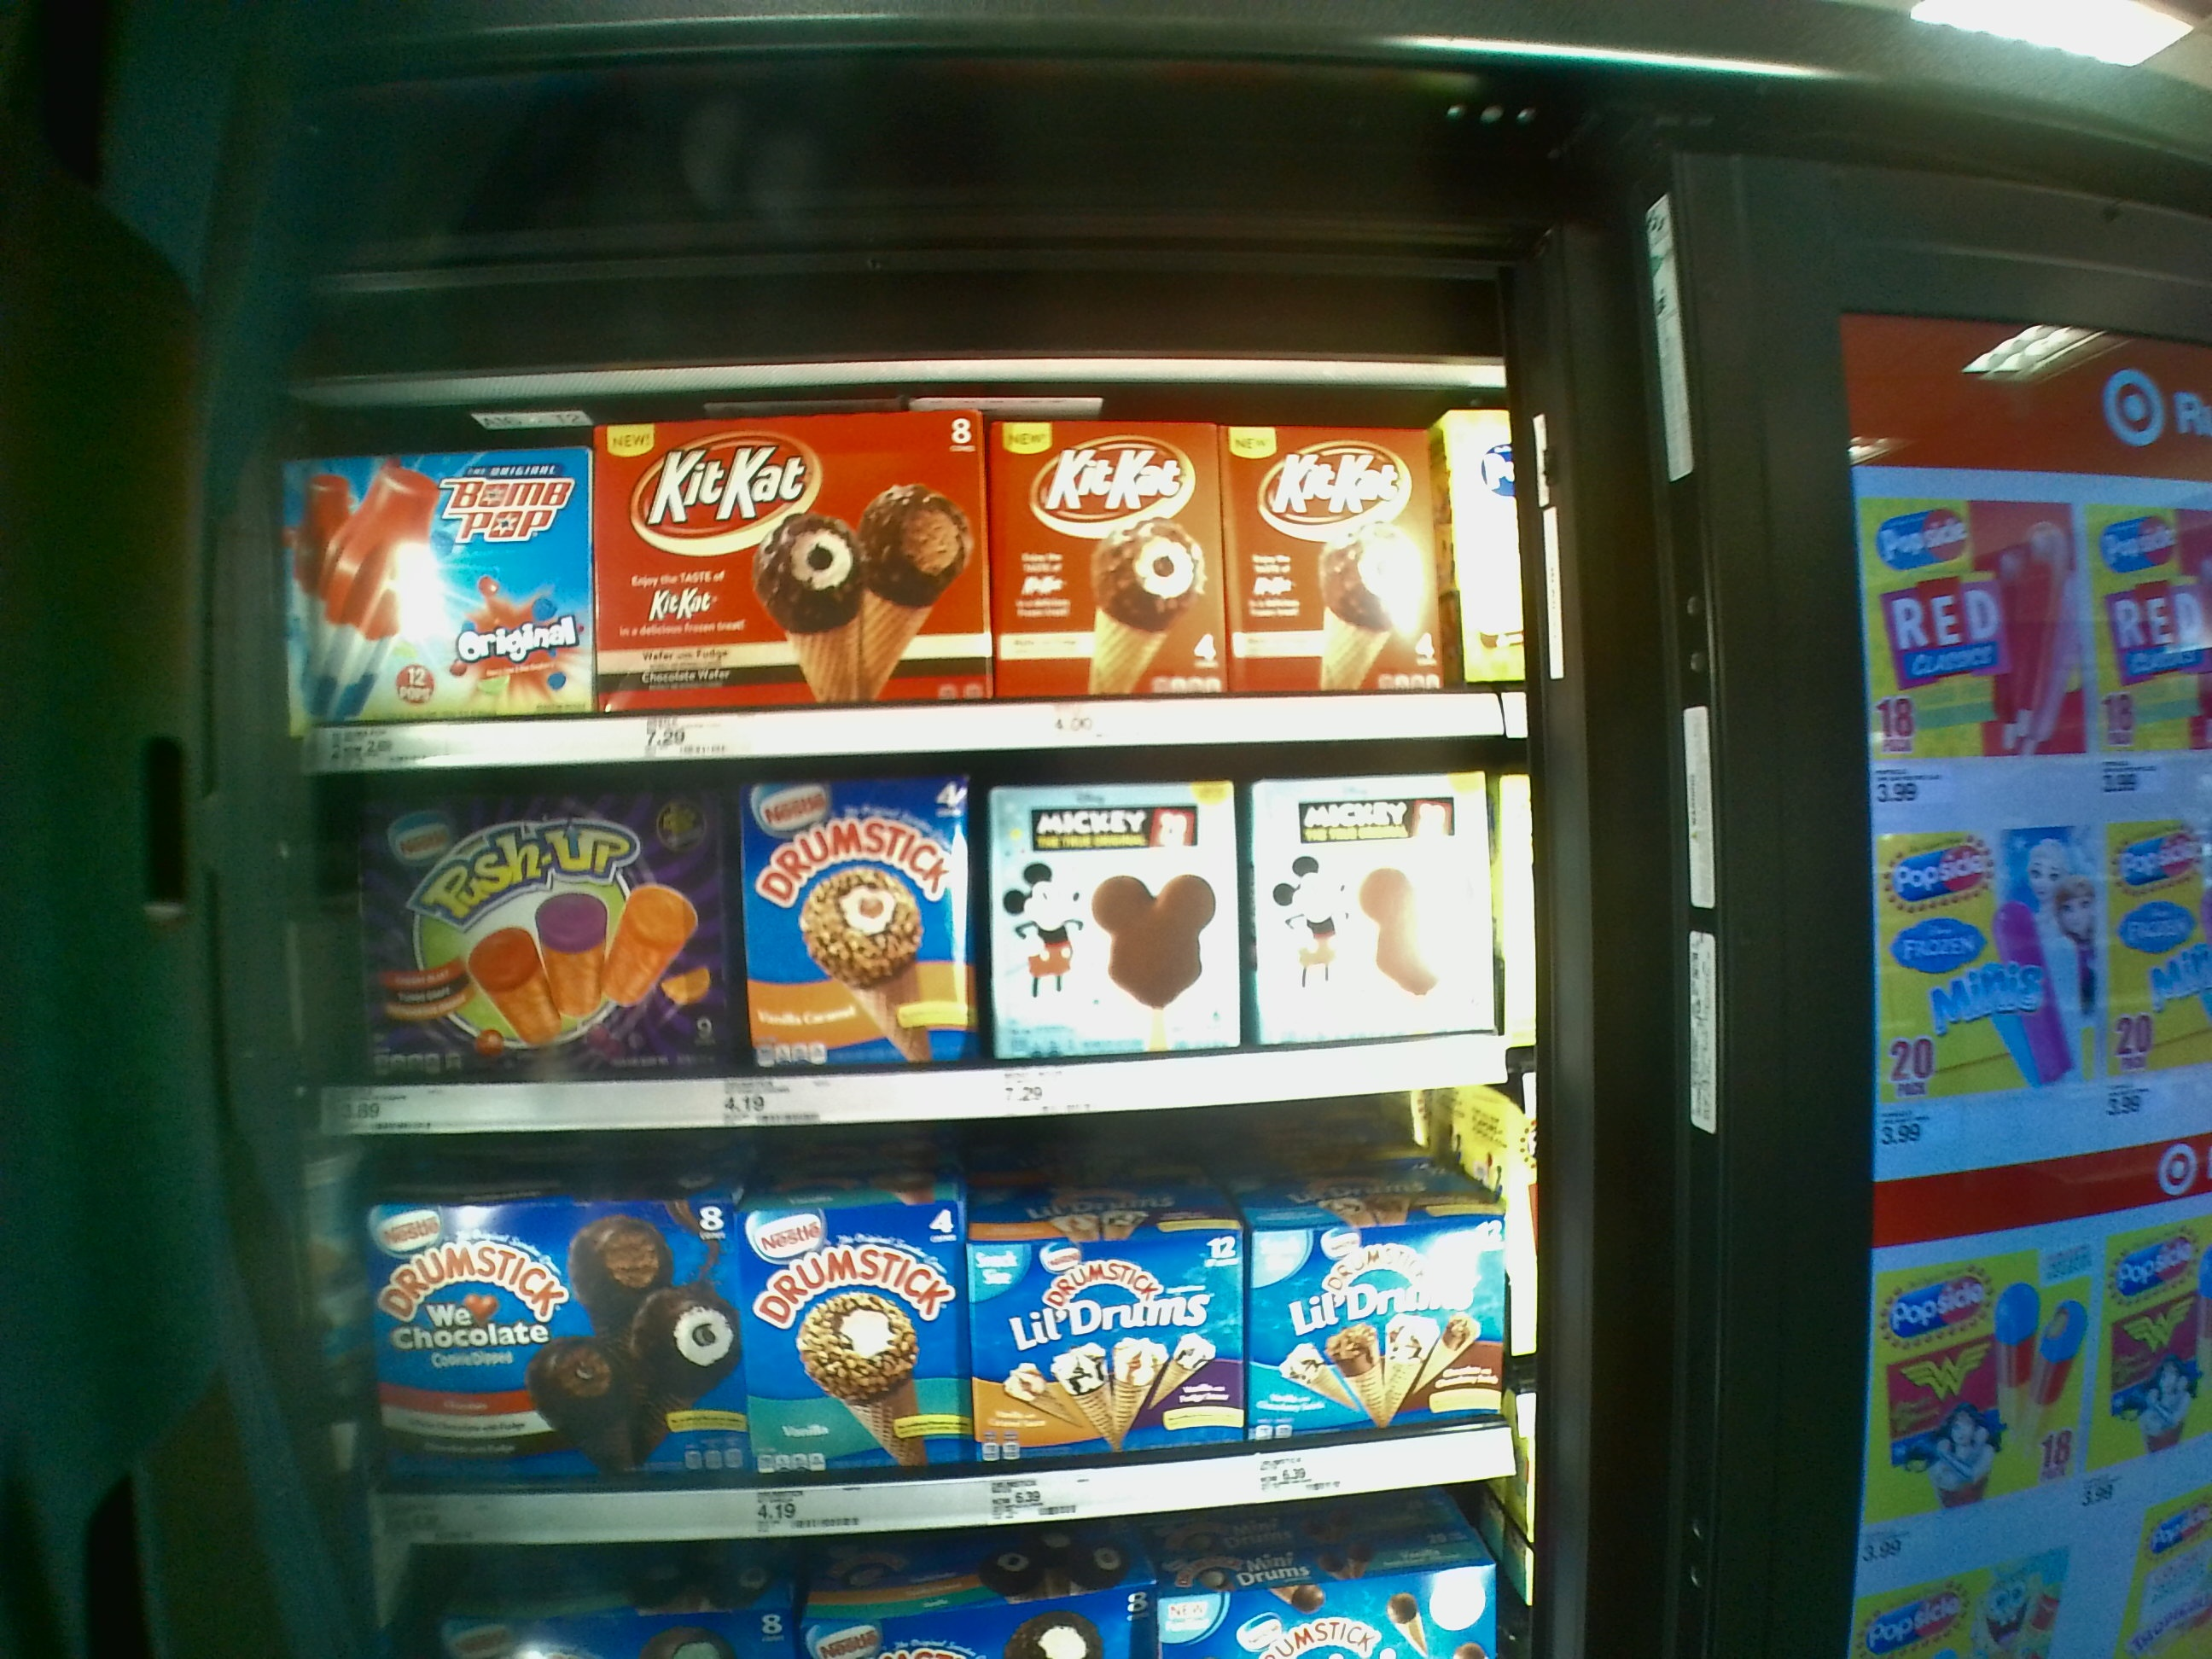shelf: (324, 1119, 1534, 1535), (270, 390, 1496, 777), (301, 751, 1543, 1117)
